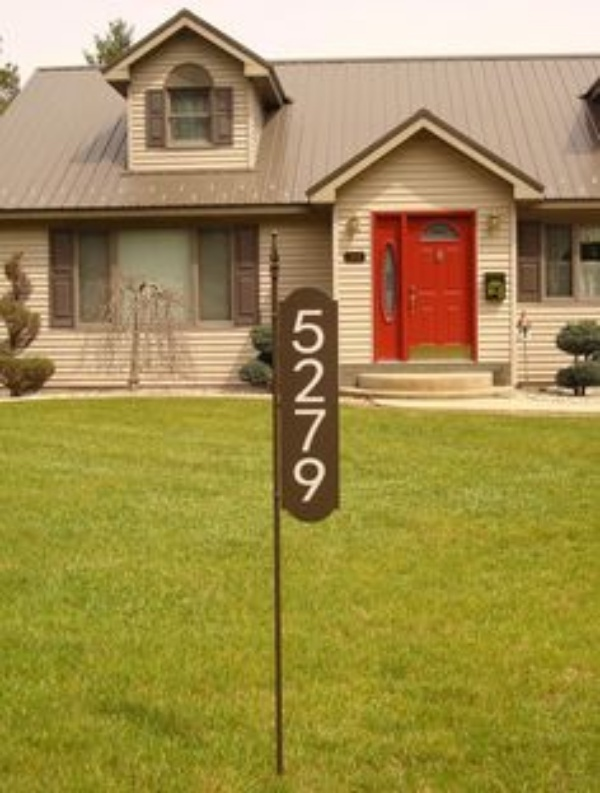text: (305, 308, 320, 504), (290, 308, 304, 504), (321, 308, 326, 504)
